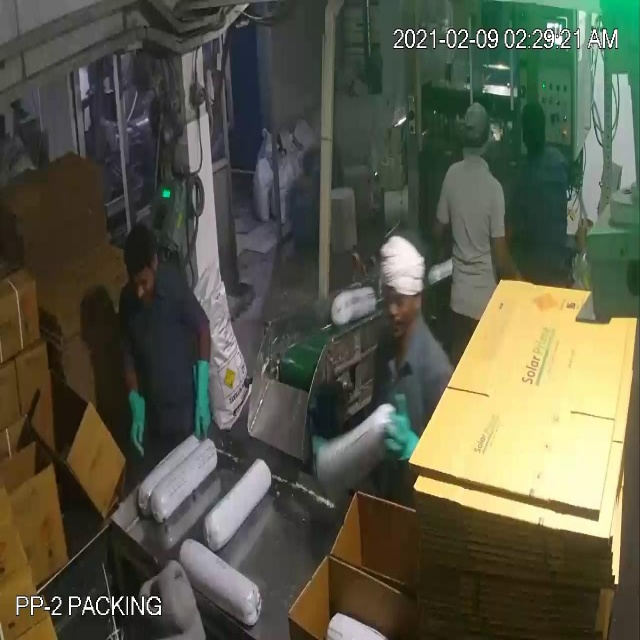Guantes: (113, 363, 161, 481), (374, 388, 428, 478), (191, 340, 224, 452)
Sin_guantes: (486, 221, 536, 293)
